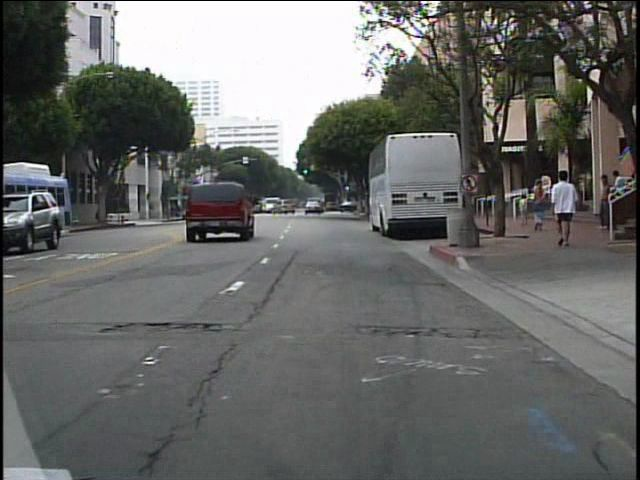person: (551, 172, 583, 248), (609, 167, 627, 230), (530, 178, 549, 236), (594, 172, 611, 234), (516, 192, 532, 229)
